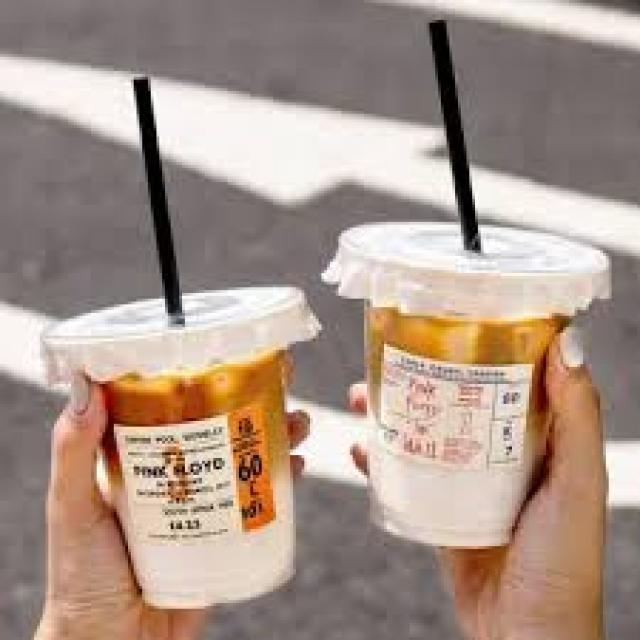bottle: (330, 224, 608, 547), (63, 288, 319, 608)
